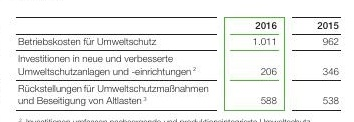table: (0, 0, 354, 122)
